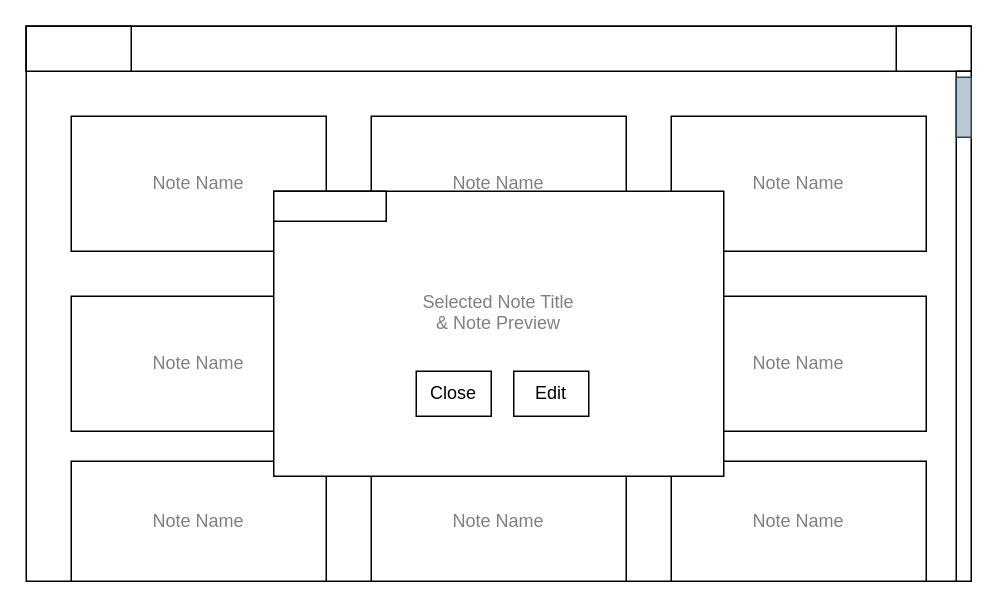
The diagram is 998 pixels wide and 608 high, and some of its shapes have lost their labels. Here are the shapes that lost their labels. From the top down, the centre of each, then its label:
At [78,48]: "New Note".
At [933,48]: "Settings".
At [329,205]: "Pin Note".
